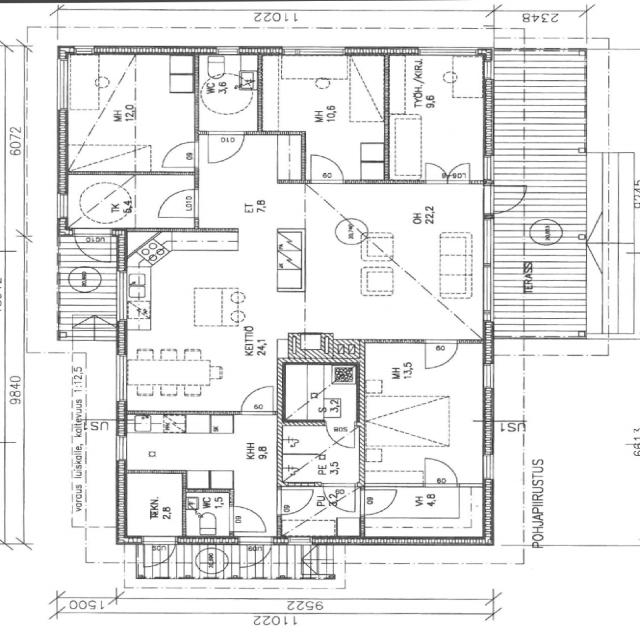door: (74, 229, 111, 266), (484, 185, 530, 213), (158, 188, 198, 218), (142, 536, 176, 571), (239, 536, 272, 571), (209, 131, 244, 163), (322, 482, 356, 513), (276, 489, 316, 515), (424, 340, 458, 370), (311, 154, 344, 184), (161, 141, 199, 167), (360, 490, 398, 516), (425, 458, 457, 487), (229, 506, 266, 531), (241, 386, 273, 414), (324, 420, 354, 449), (426, 162, 448, 184), (448, 162, 470, 184)
